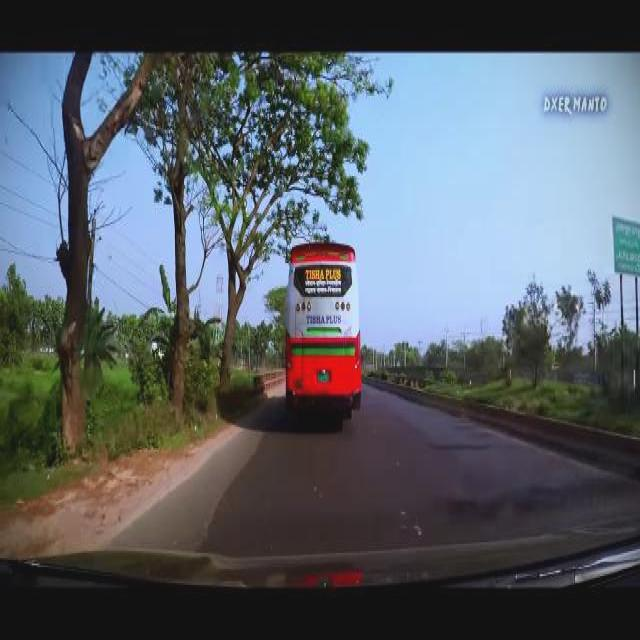BUS: (282, 239, 366, 419)
